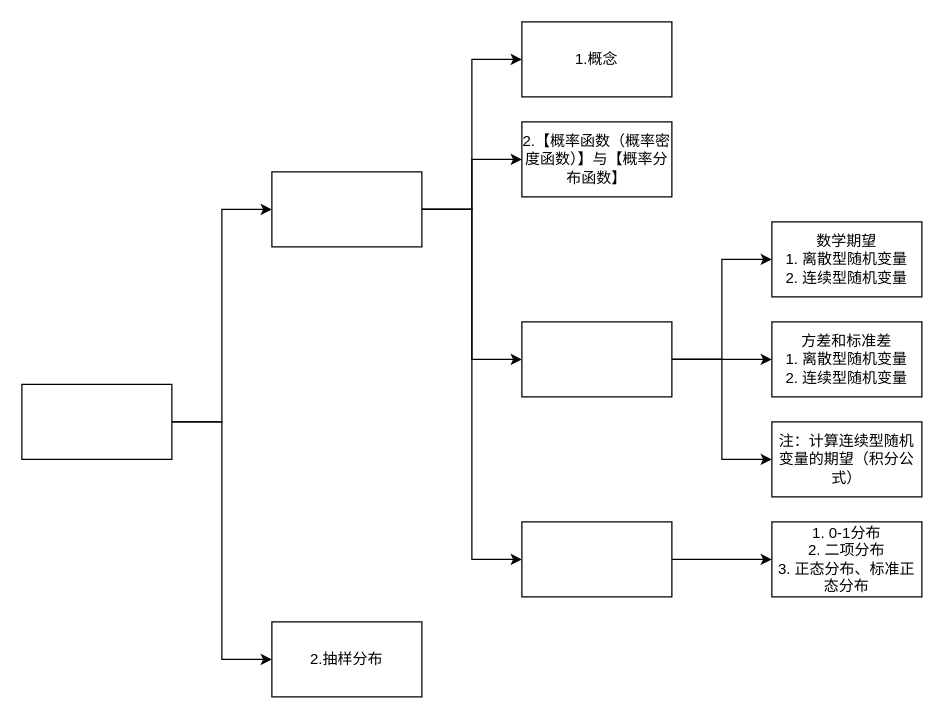
Some shapes in this 944 by 719 pixel diagram are drawn without their labels. Here are the shapes that lost their labels. From the top down, the centre of each, then its label:
At pixel 346 209: "1.概率分布/随机变量".
At pixel 596 359: "3.数字特征".
At pixel 96 421: "随机变量以及抽样分布".
At pixel 596 559: "4.分布".
